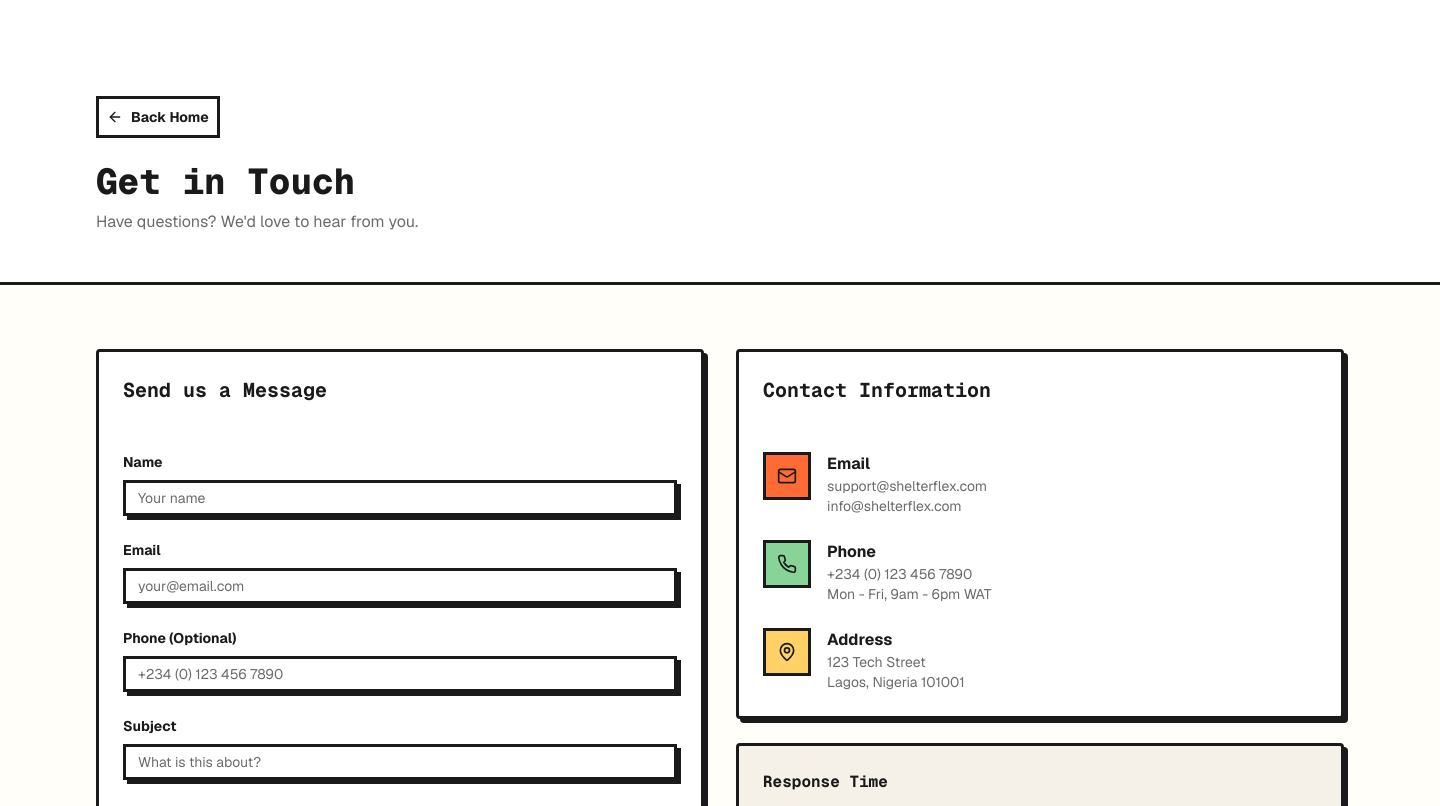
Test case: ContactPage › shows server error on submission failure
# Fill form
In the field labelled "Name": (400, 498) [123,480,677,516], type "John Doe"
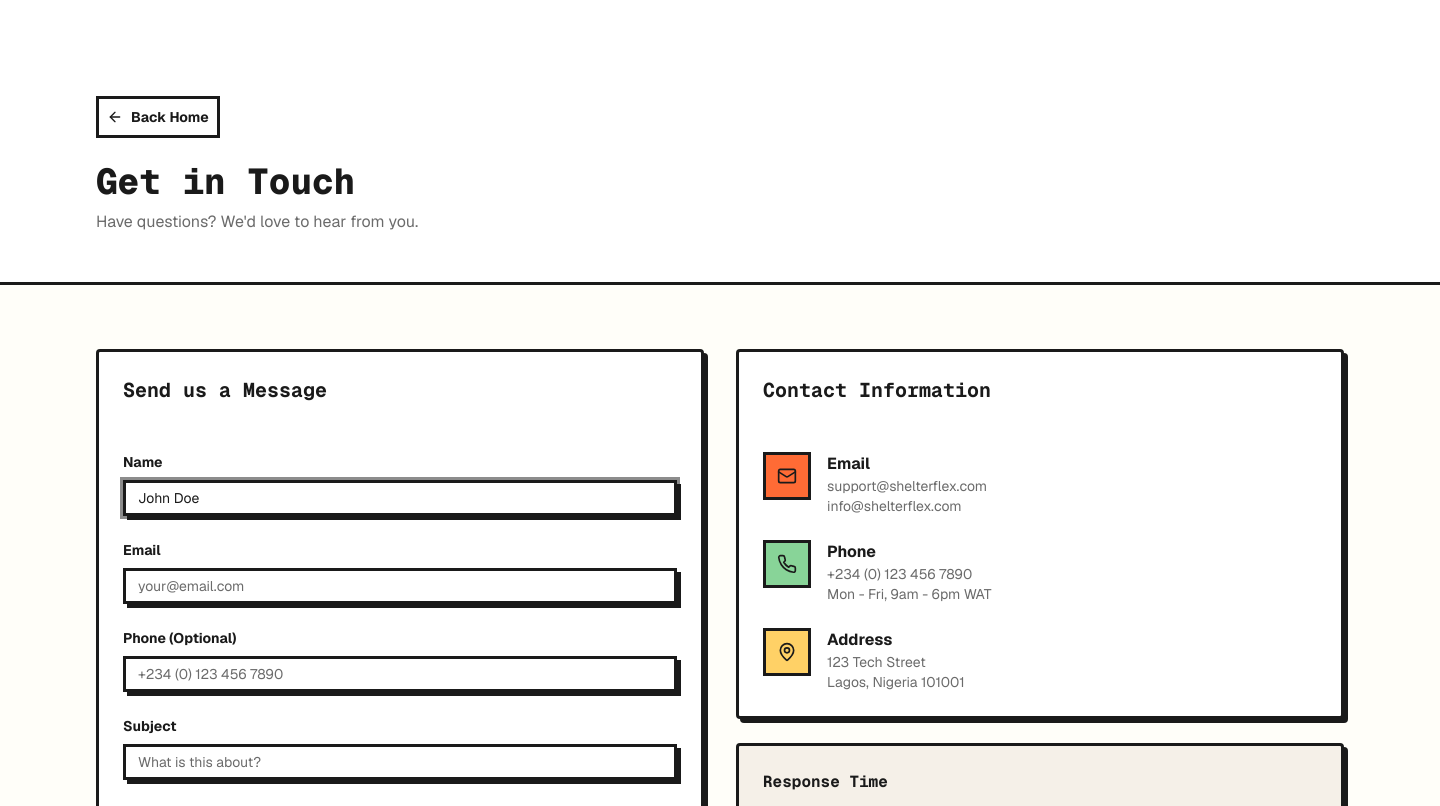
In the field labelled "Email": (400, 586) [123,568,677,604], type "john@example.com"
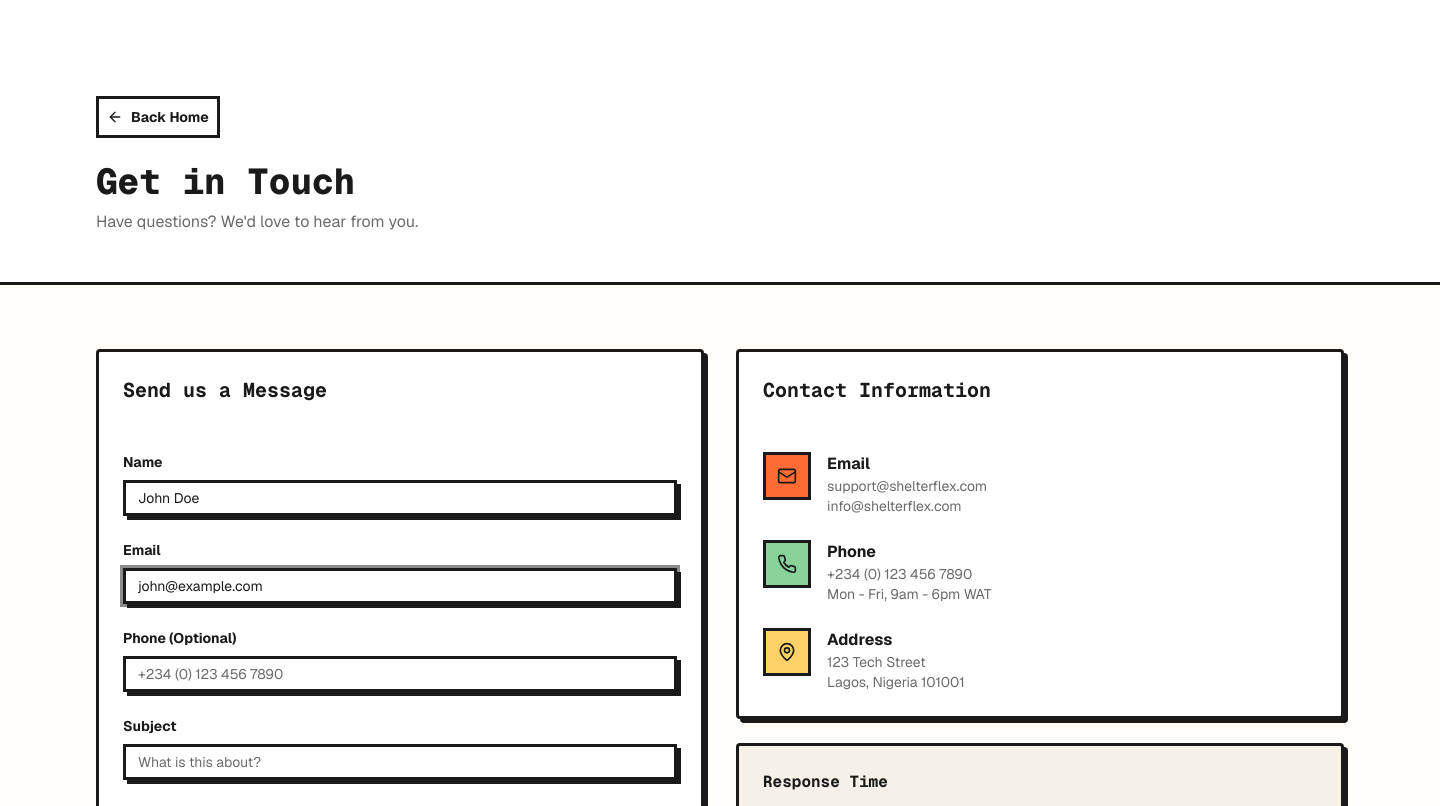
In the field labelled "Subject": (400, 762) [123,744,677,780], type "Test Subject"
(page scrolled)
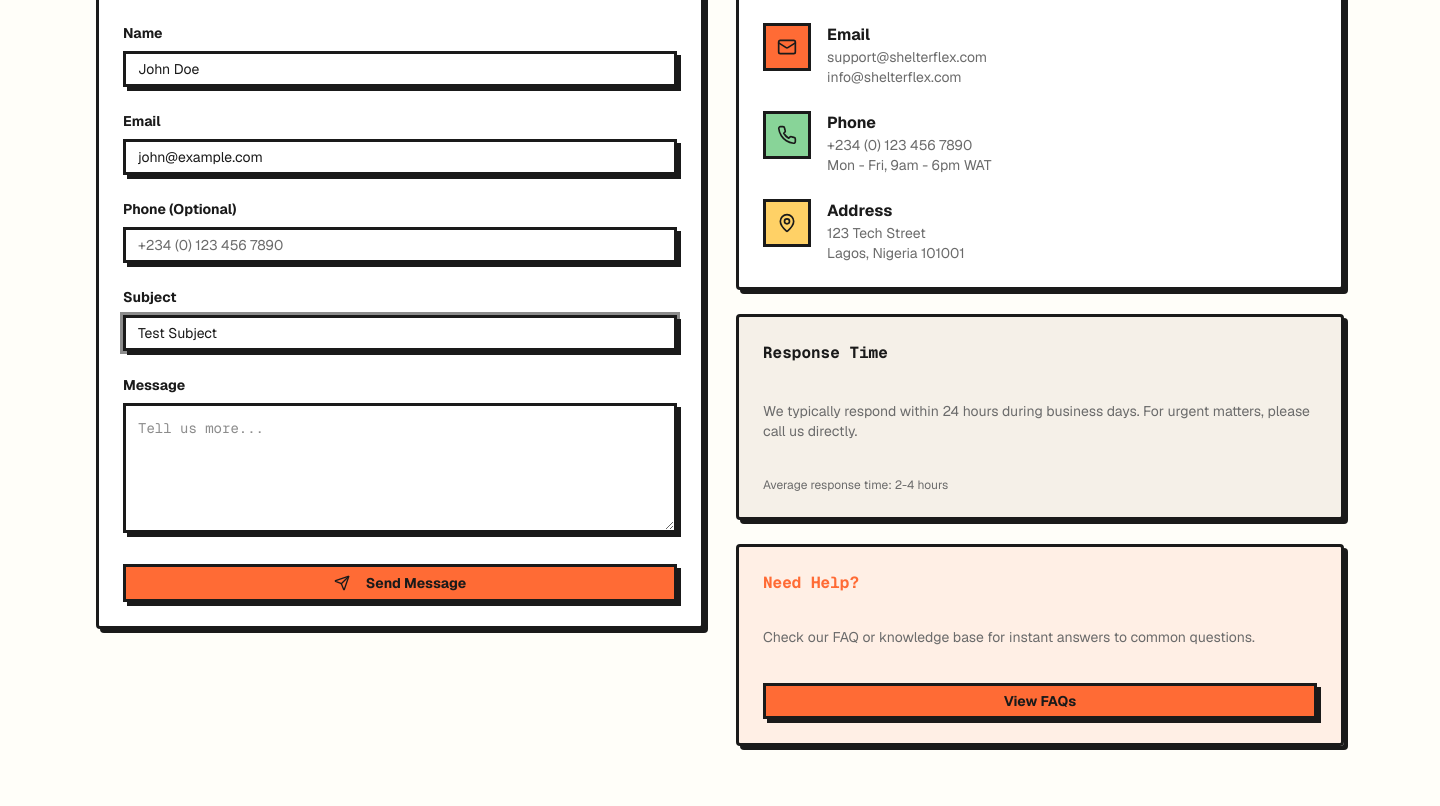
In the text box labelled "Message": (400, 468) [123,403,677,533], type "Test message"
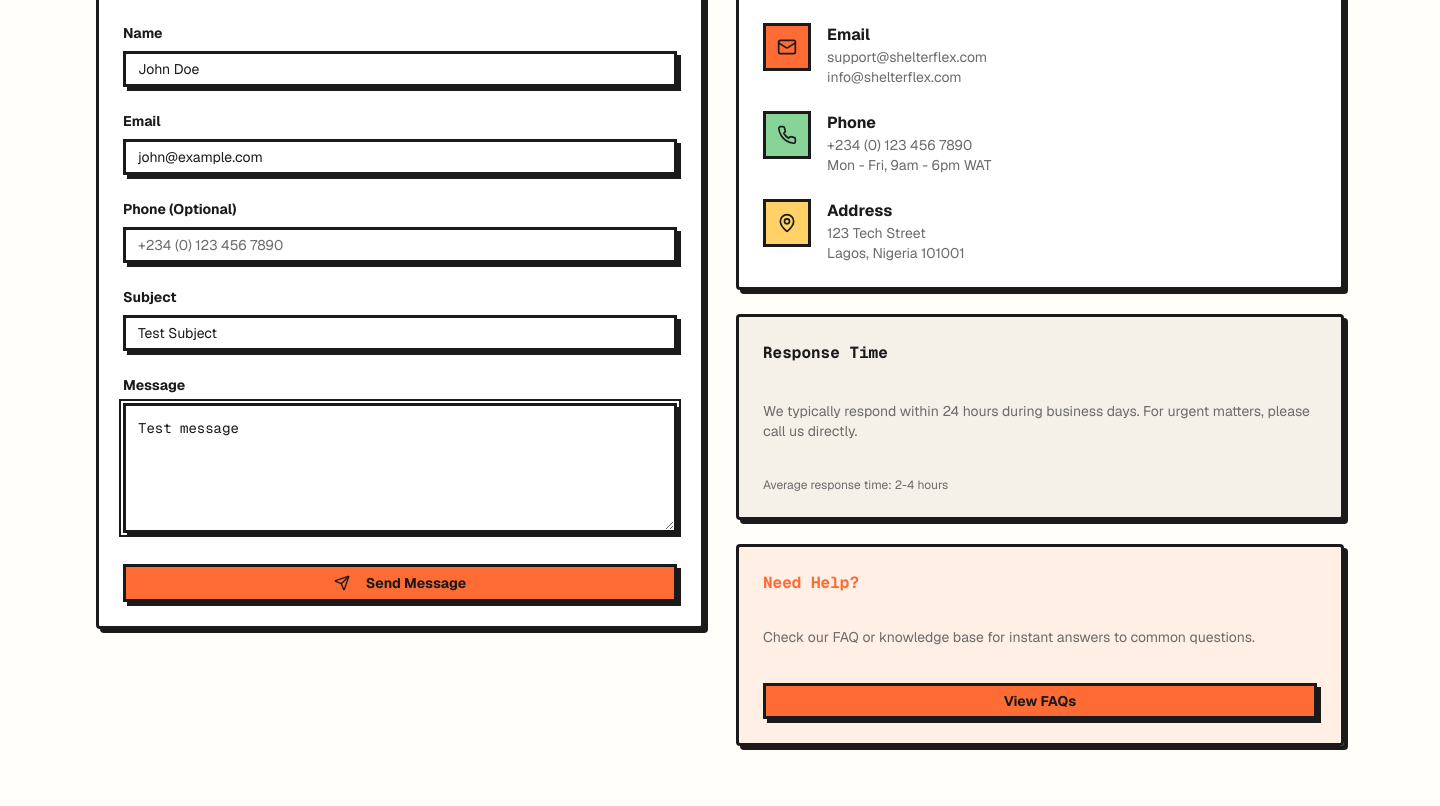
# Submit form
Click the button "Send Message": (400, 583) [123,564,677,602]
(page scrolled)
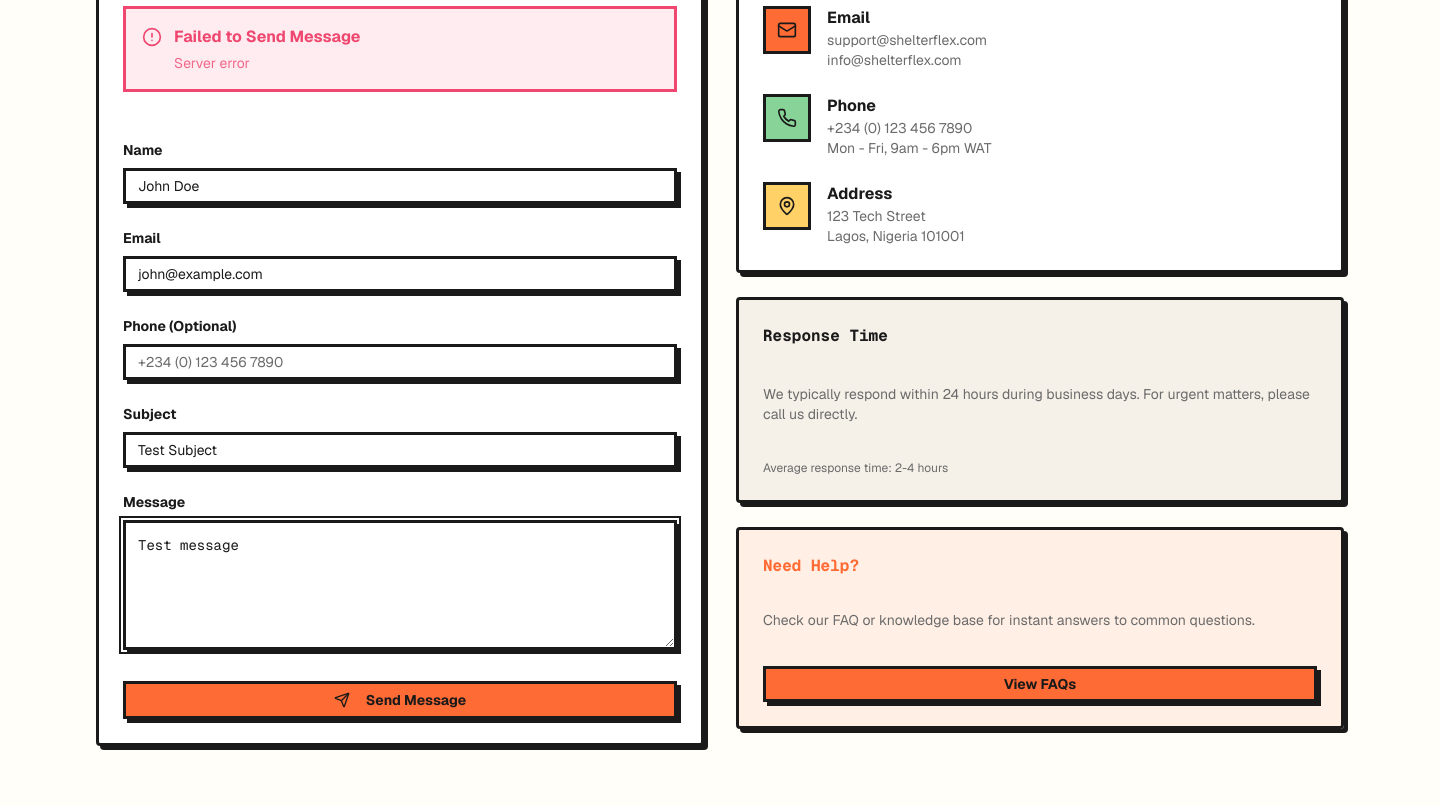
expect the button "Send Message" is enabled: met, box [123,681,677,719]
expect the text "Failed to Send Message" is shown: met, box [174,25,361,49]
expect the text "Server error" is shown: met, box [174,54,250,72]
